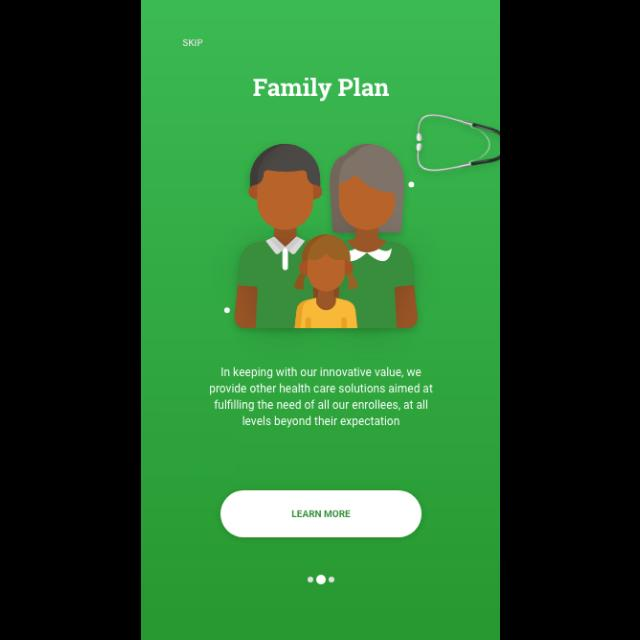image: (224, 115, 500, 329)
pageindicator: (308, 574, 334, 586)
text: (209, 367, 433, 429), (252, 78, 390, 102), (182, 40, 204, 48)
textbutton: (220, 490, 422, 538)
